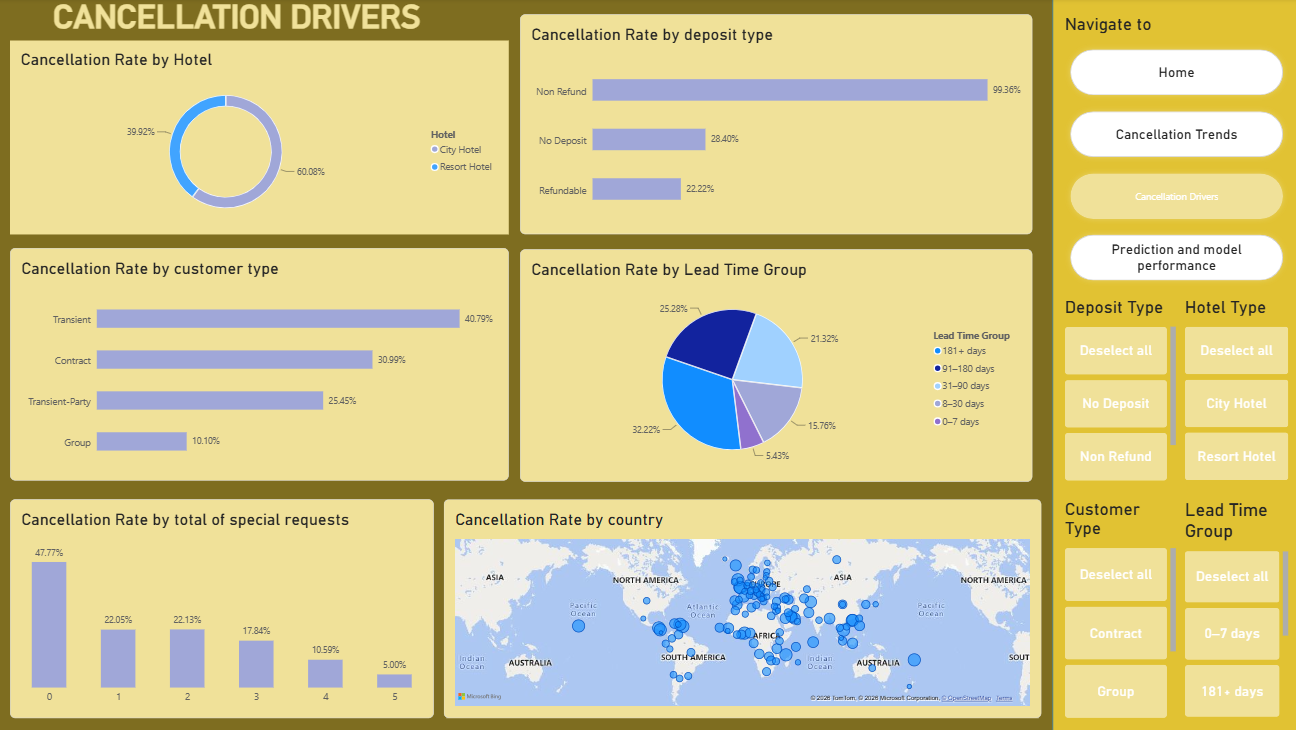

Layout of this report page (visuals, bound fields, positions):
{"tool":"powerbi","page":{"name":"Cancellation Drivers","canvas":[1920,1080],"ordinal":2},"visuals":[{"type":"donutChart","fields":{"Category":["hotel_cancellation_cleaned.hotel"],"Y":["hotel_cancellation_cleaned.Cancellation_rate"]},"box":[22.1,62.6,734.4,285.3],"z":0},{"type":"pieChart","fields":{"Category":["hotel_cancellation_cleaned.Lead Time Group"],"Y":["hotel_cancellation_cleaned.Cancellation_rate"]},"box":[773,369.9,754.6,342.3],"z":1000},{"type":"clusteredBarChart","title":"Cancellation Rate by deposit type","fields":{"Category":["hotel_cancellation_cleaned.deposit_type"],"Y":["hotel_cancellation_cleaned.Cancellation_rate"]},"box":[773,23.9,754.6,323.9],"z":2000},{"type":"clusteredBarChart","title":"Cancellation Rate by customer type","fields":{"Category":["hotel_cancellation_cleaned.customer_type"],"Y":["hotel_cancellation_cleaned.Cancellation_rate"]},"box":[22.1,368.1,734.4,342.3],"z":3000},{"type":"clusteredColumnChart","title":"Cancellation Rate by total of special requests","fields":{"Category":["hotel_cancellation_cleaned.total_of_special_requests"],"Y":["hotel_cancellation_cleaned.Cancellation_rate"]},"box":[22.1,738,623.9,322.1],"z":4000},{"type":"map","fields":{"Category":["hotel_cancellation_cleaned.country"],"Size":["hotel_cancellation_cleaned.Cancellation_rate"]},"box":[660.7,738,879.8,322.1],"z":5000},{"type":"shape","box":[1557.1,0,362.6,1080.4],"z":6000},{"type":"advancedSlicerVisual","title":"Customer Type","fields":{"Values":["hotel_cancellation_cleaned.customer_type"]},"box":[1575.5,738,163.8,322.1],"z":7000},{"type":"advancedSlicerVisual","fields":{"Values":["hotel_cancellation_cleaned.Lead Time Group"]},"box":[1752.2,738,152.8,322.1],"z":8000},{"type":"advancedSlicerVisual","title":"Deposit Type","fields":{"Values":["hotel_cancellation_cleaned.deposit_type"]},"box":[1575.5,439.9,163.8,272.4],"z":9000},{"type":"advancedSlicerVisual","title":"Hotel Type","fields":{"Values":["hotel_cancellation_cleaned.hotel"]},"box":[1752.2,439.9,152.8,270.6],"z":10000},{"type":"pageNavigator","title":"Navigate to","box":[1575.5,23.9,329.4,401.2],"z":11000},{"type":"textbox","box":[51.5,0,609.2,79.1],"z":12000}]}

Visuals, with their boxes in screenshot pixels (x1, y1, x2, y2), scaled from the page's 1920x1080 canvas onto the 1296x730 screenshot:
donutChart - hotel_cancellation_cleaned.hotel x hotel_cancellation_cleaned.Cancellation_rate: BBox(15, 42, 511, 235)
pieChart - hotel_cancellation_cleaned.Lead Time Group x hotel_cancellation_cleaned.Cancellation_rate: BBox(522, 250, 1031, 481)
"Cancellation Rate by deposit type" clusteredBarChart: BBox(522, 16, 1031, 235)
"Cancellation Rate by customer type" clusteredBarChart: BBox(15, 249, 511, 480)
"Cancellation Rate by total of special requests" clusteredColumnChart: BBox(15, 499, 436, 717)
map - hotel_cancellation_cleaned.country x hotel_cancellation_cleaned.Cancellation_rate: BBox(446, 499, 1040, 717)
shape: BBox(1051, 0, 1295, 729)
"Customer Type" advancedSlicerVisual: BBox(1063, 499, 1174, 717)
advancedSlicerVisual - hotel_cancellation_cleaned.Lead Time Group: BBox(1183, 499, 1286, 717)
"Deposit Type" advancedSlicerVisual: BBox(1063, 297, 1174, 481)
"Hotel Type" advancedSlicerVisual: BBox(1183, 297, 1286, 480)
"Navigate to" pageNavigator: BBox(1063, 16, 1286, 287)
textbox: BBox(35, 0, 446, 53)
